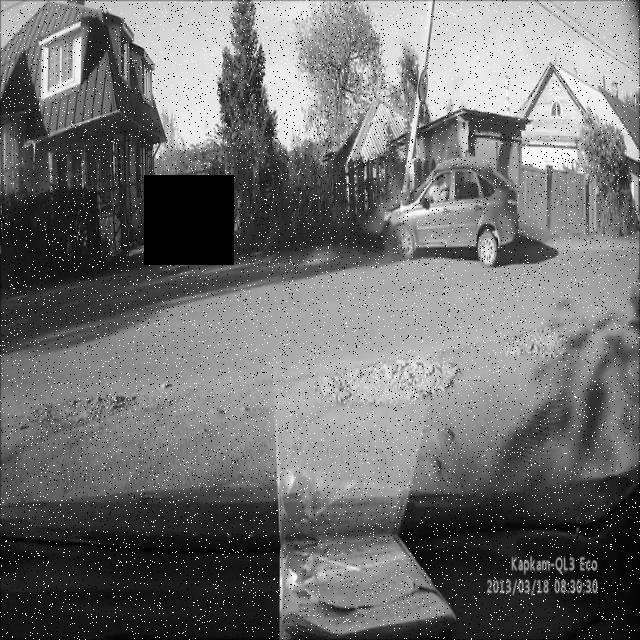accident: (379, 150, 523, 270)
